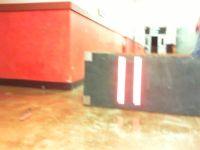switch: (132, 56, 142, 106), (116, 55, 126, 104)
